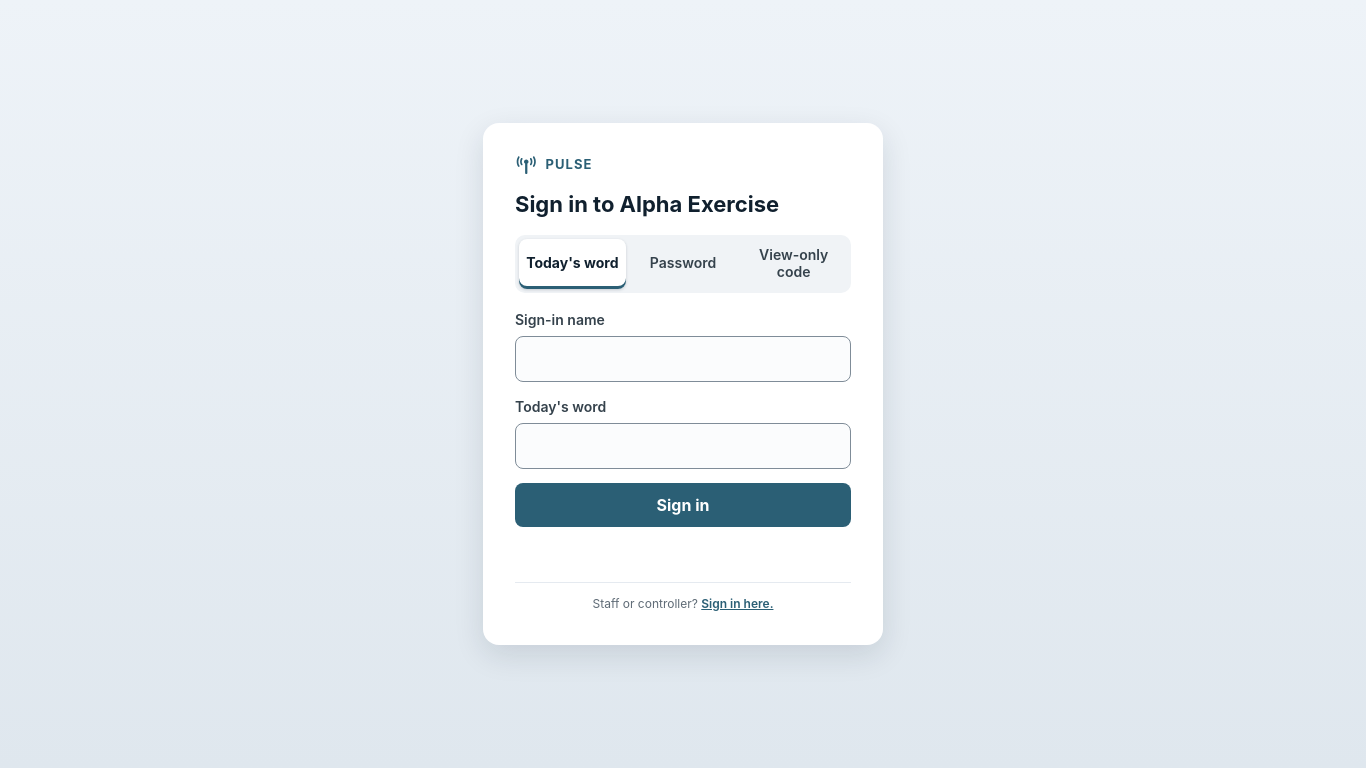
Test case: ParticipantSignInPage — Today's word failures (09-AC4) › 401: never says which half was wrong, whatever detail the server sends
In the field labelled "Sign-in name": x=683, y=358 [515, 336, 851, 382], type "nobody"
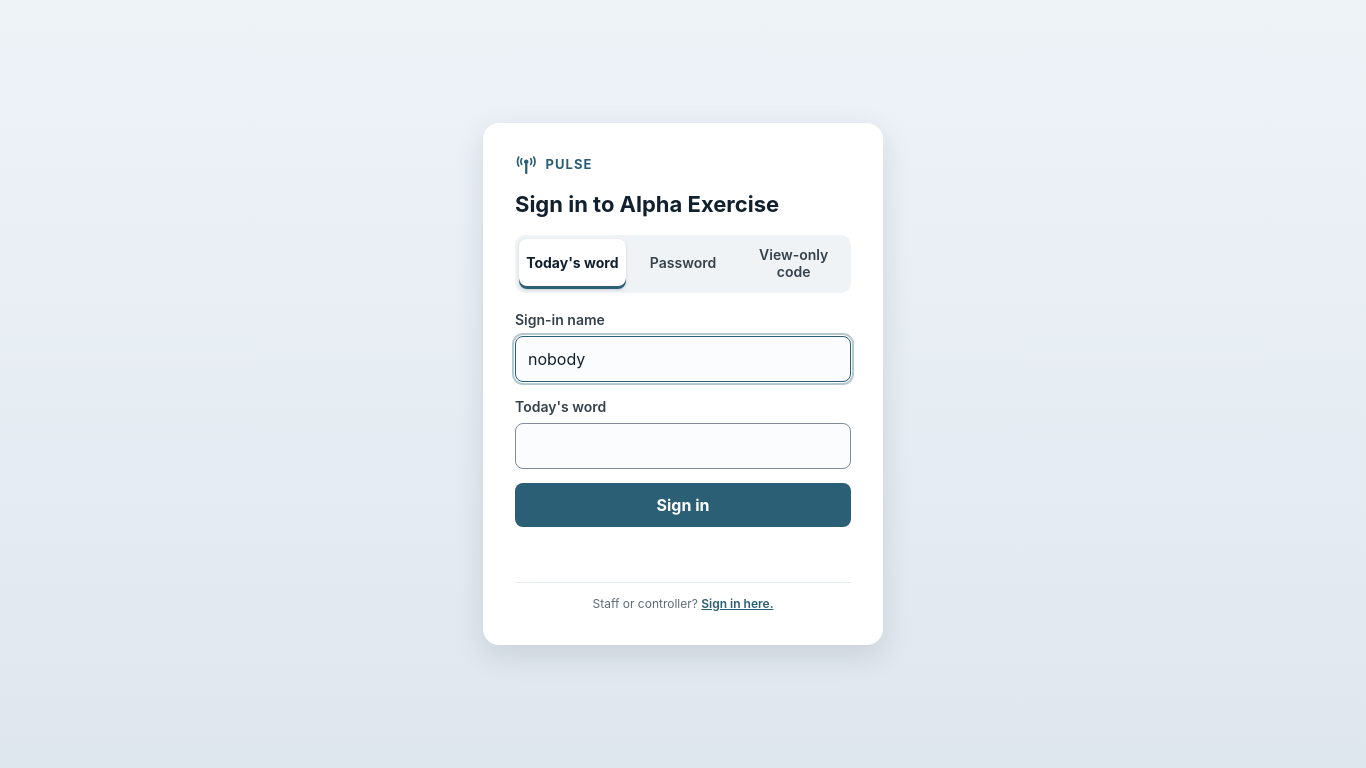
In the field labelled "Today's word": x=683, y=446 [515, 422, 851, 468], type "whatever"
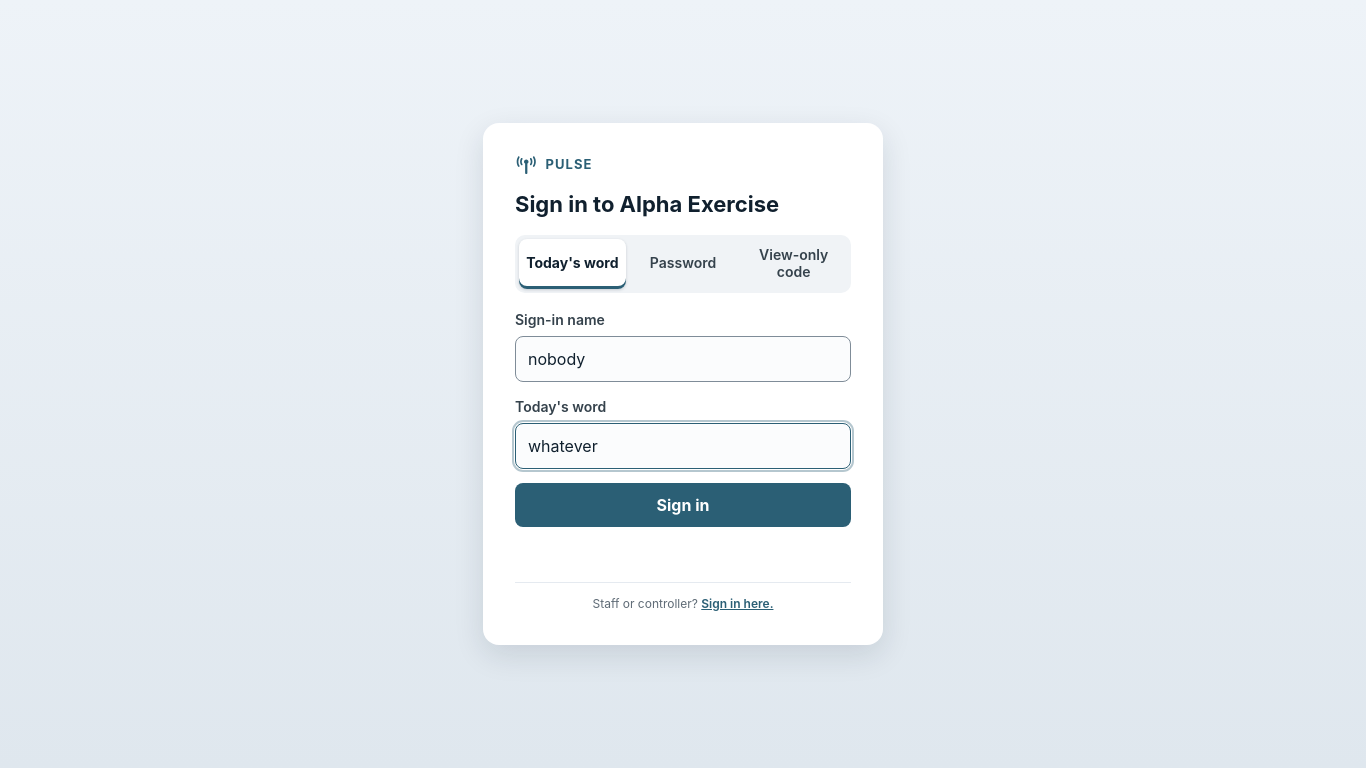
Click the button "Sign in": x=683, y=504 [515, 482, 851, 526]
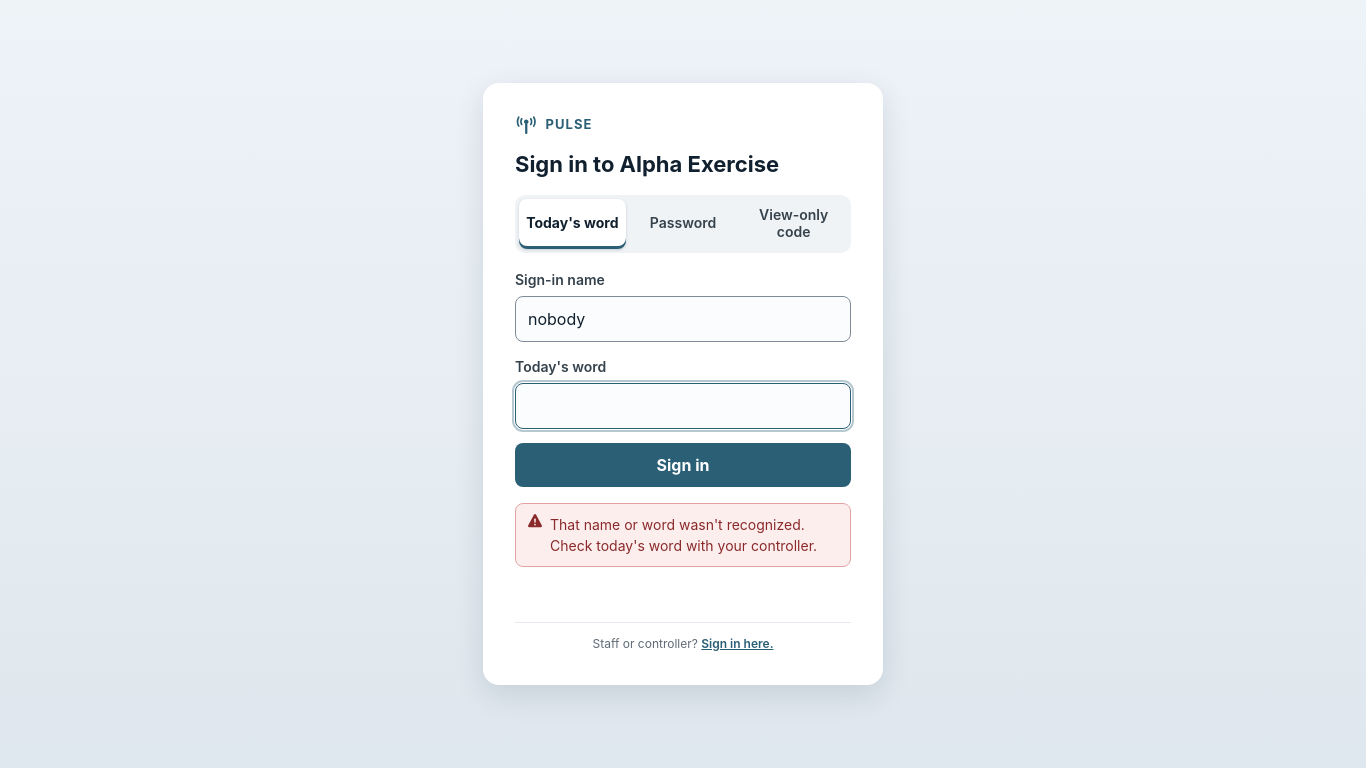
Expected: the message "That name or word wasn't recognized. Check today's word with your controller." does not show "no such", [515, 502, 851, 566]
Now the message "That name or word wasn't recognized. Check today's word with your controller." is shown, box [515, 502, 851, 566]
